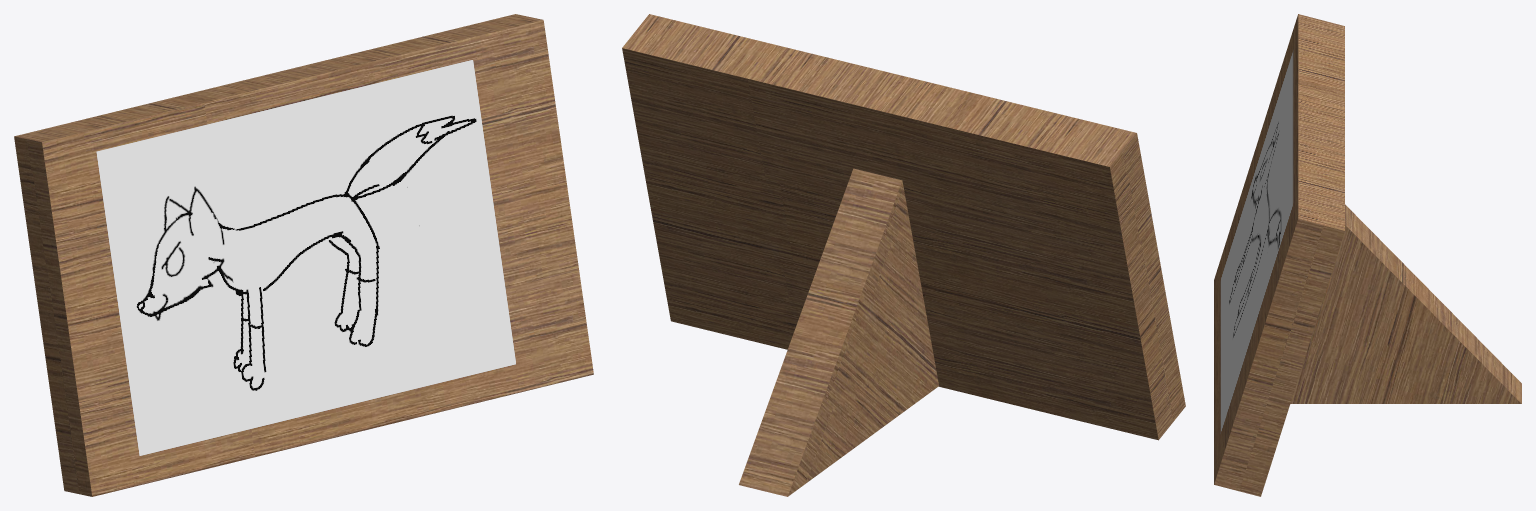
The model's file is fox-standee.fbx.
3 views of the same model, side by side, from view 1: azimuth 30°, elevation 25°; view 2: azimuth 150°, elevation 25°; view 3: azimuth 270°, elevation 25° (orthographic). The views are drawn at different scales.
Visible parts, largest first — view 1: Cube; view 2: Cube; view 3: Cube.
Boxes of the visible parts, x1,y1,x2,y2 form: Cube: [14, 14, 593, 496]; Cube: [622, 14, 1185, 496]; Cube: [1214, 14, 1521, 496].
Bounding box in the file's own units: 3.18 × 2.01 × 2.02.
1 material, 1 textured.
